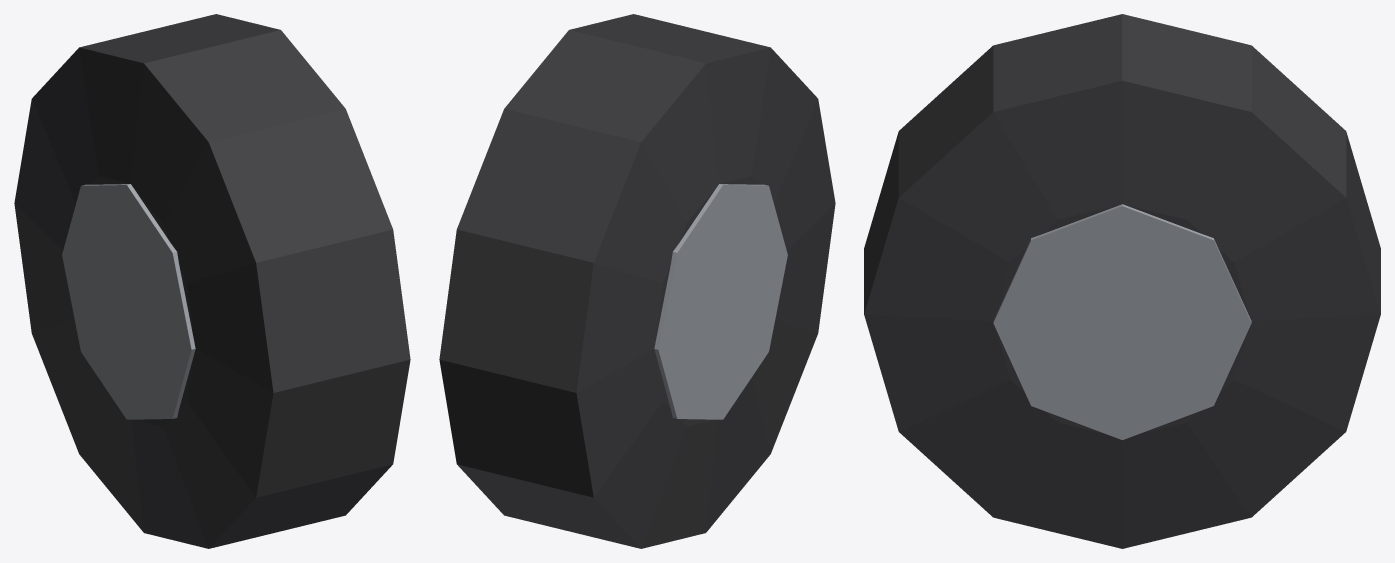
The model's file is Wheel.obj.
The picture shows the model from 3 angles, left to right: view 1: azimuth 30°, elevation 25°; view 2: azimuth 150°, elevation 25°; view 3: azimuth 270°, elevation 25°; orthographic projection.
Visible parts, largest first — view 1: Wheel; view 2: Wheel; view 3: Wheel.
Boxes of the visible parts, x1,y1,x2,y2 form: Wheel: (14,14,410,548); Wheel: (439,14,835,548); Wheel: (864,14,1380,548).
Size of the model in its own units: 0.42 by 1.1 by 1.1.
1 material, 1 textured.
